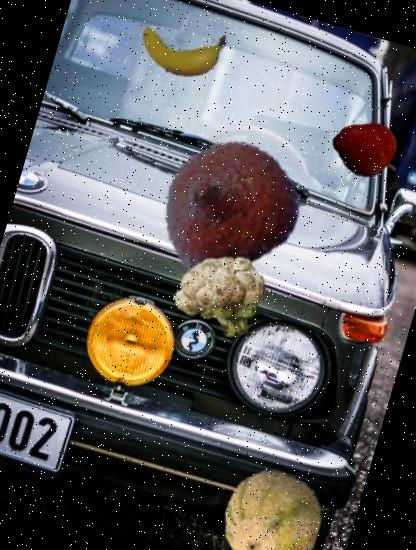Banana: (131, 0, 231, 95)
Cantaloupe: (207, 457, 336, 550)
Cauliflower: (162, 237, 278, 353)
Salak: (143, 120, 316, 292)
Strawberry: (326, 108, 410, 192)
